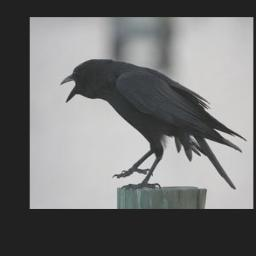Crow: (59, 58, 246, 192)
